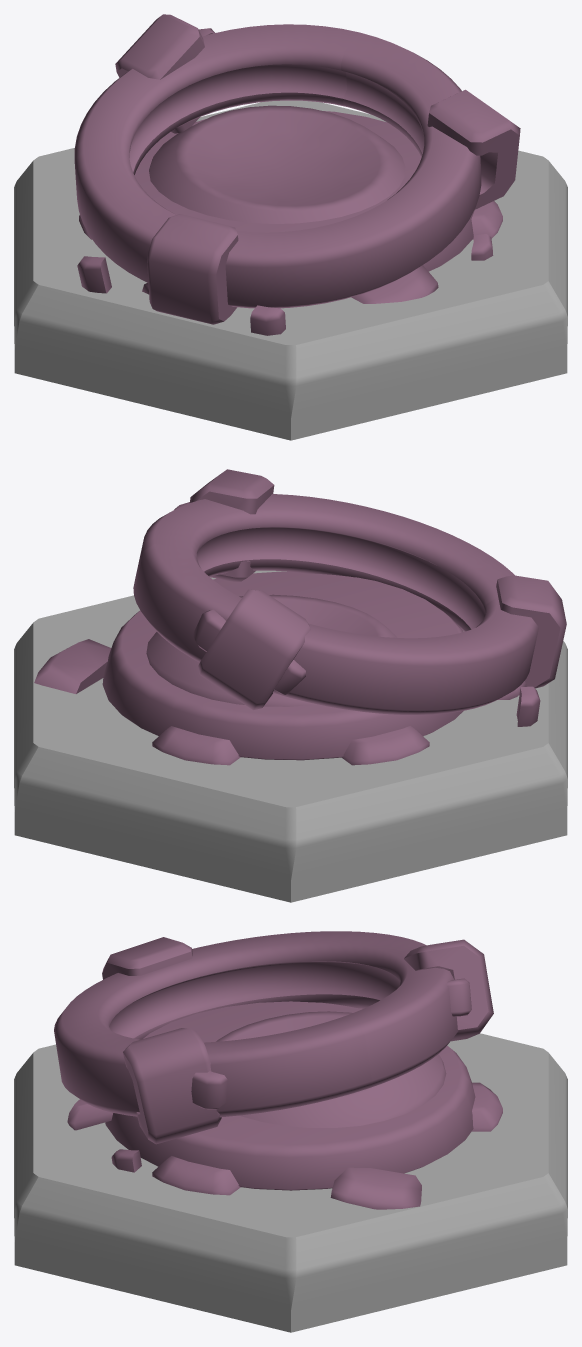
File: Portal_dstr.fbx
3 renders of one model, top to bottom at view 1: azimuth 30°, elevation 25°; view 2: azimuth 150°, elevation 25°; view 3: azimuth 270°, elevation 25°, orthographic.
Parts seen in each view (by area): view 1: portal_destr; view 2: portal_destr; view 3: portal_destr.
Boxes of the visible parts, x1,y1,x2,y2 form: portal_destr: [14, 14, 567, 440]; portal_destr: [14, 469, 567, 902]; portal_destr: [14, 931, 567, 1332].
Bounding box in the file's own units: 7.19 × 2.96 × 6.24.
